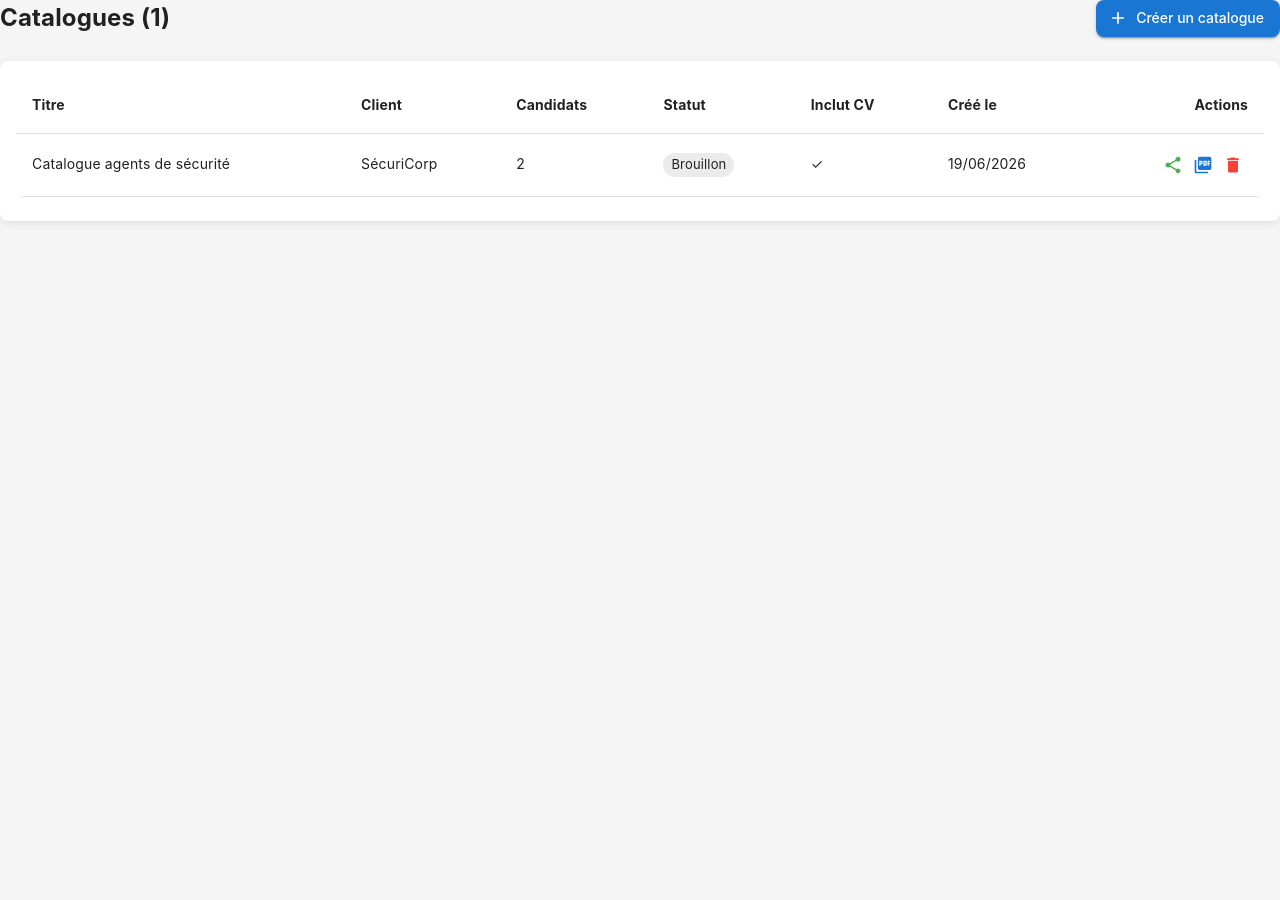
CataloguesPage › ouvre le dialog de création au clic sur « Créer un catalogue »
Expected: the text "Catalogue agents de sécurité" is shown, x1=16 y1=133 x2=345 y2=196
# Le bouton d'en-tête ouvre le dialog.
Click the button "Créer un catalogue". click: (1188, 18)
box: x1=1096 y1=0 x2=1279 y2=36
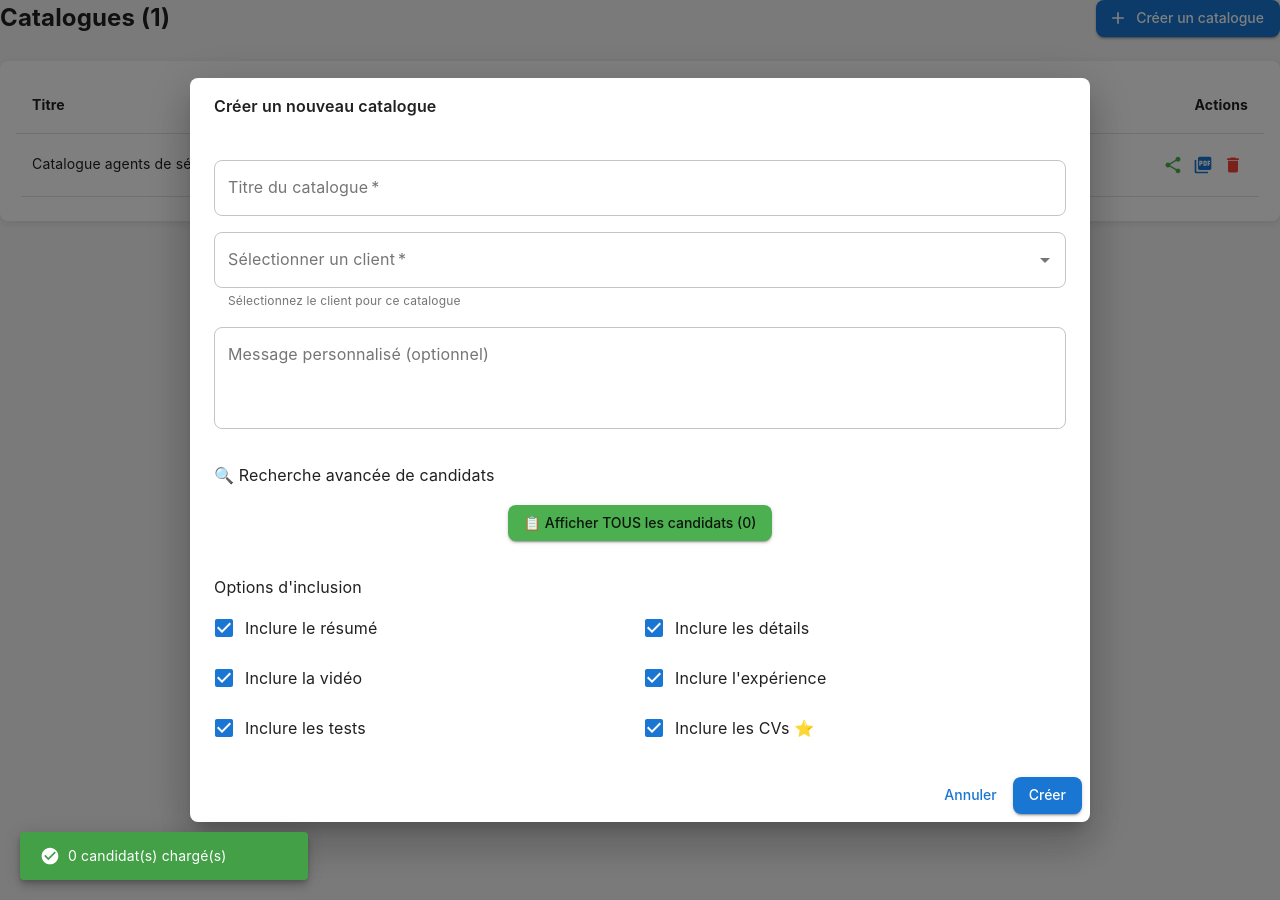
Now the heading "Créer un nouveau catalogue" is shown, box x1=214 y1=96 x2=436 y2=116
Now the field labelled "Titre du catalogue *" is shown, box x1=214 y1=160 x2=1066 y2=216
